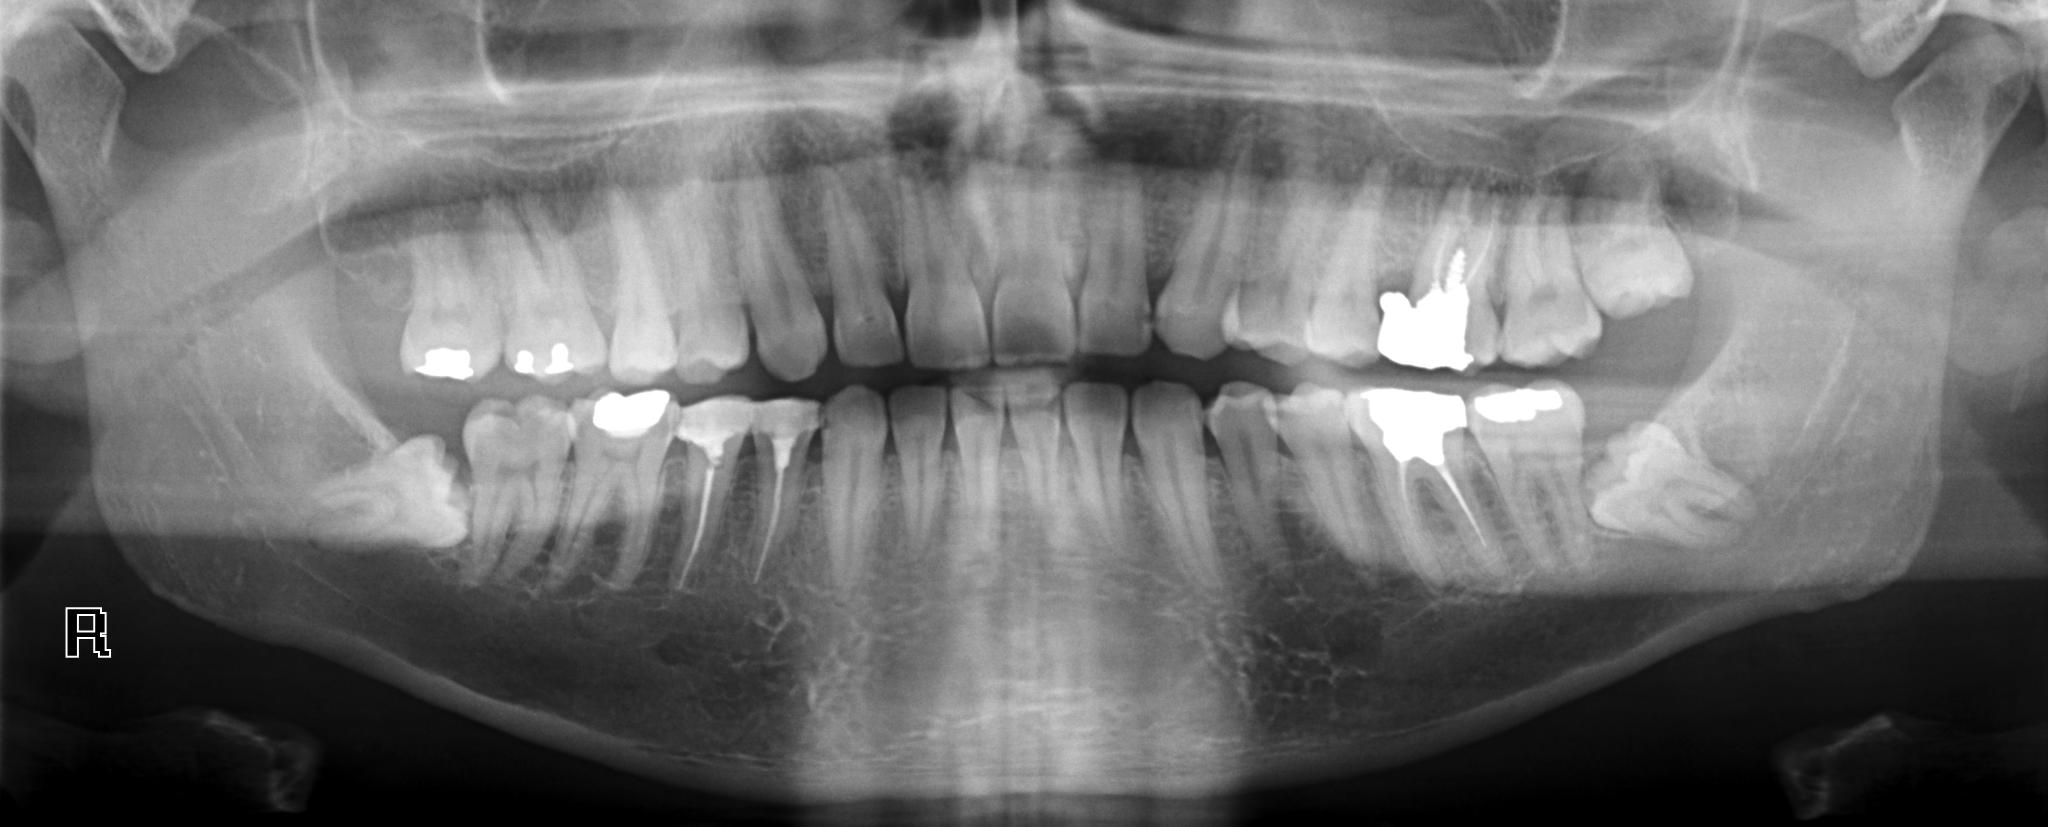Cavity: (989, 203, 1076, 361), (1075, 201, 1153, 361)
Fillings: (564, 384, 678, 587), (496, 213, 606, 384), (396, 218, 503, 385)
Impacted Tooth: (1584, 413, 1759, 553), (312, 427, 469, 554)
Implant: (1351, 381, 1494, 574), (1381, 192, 1510, 379), (743, 385, 822, 594)
